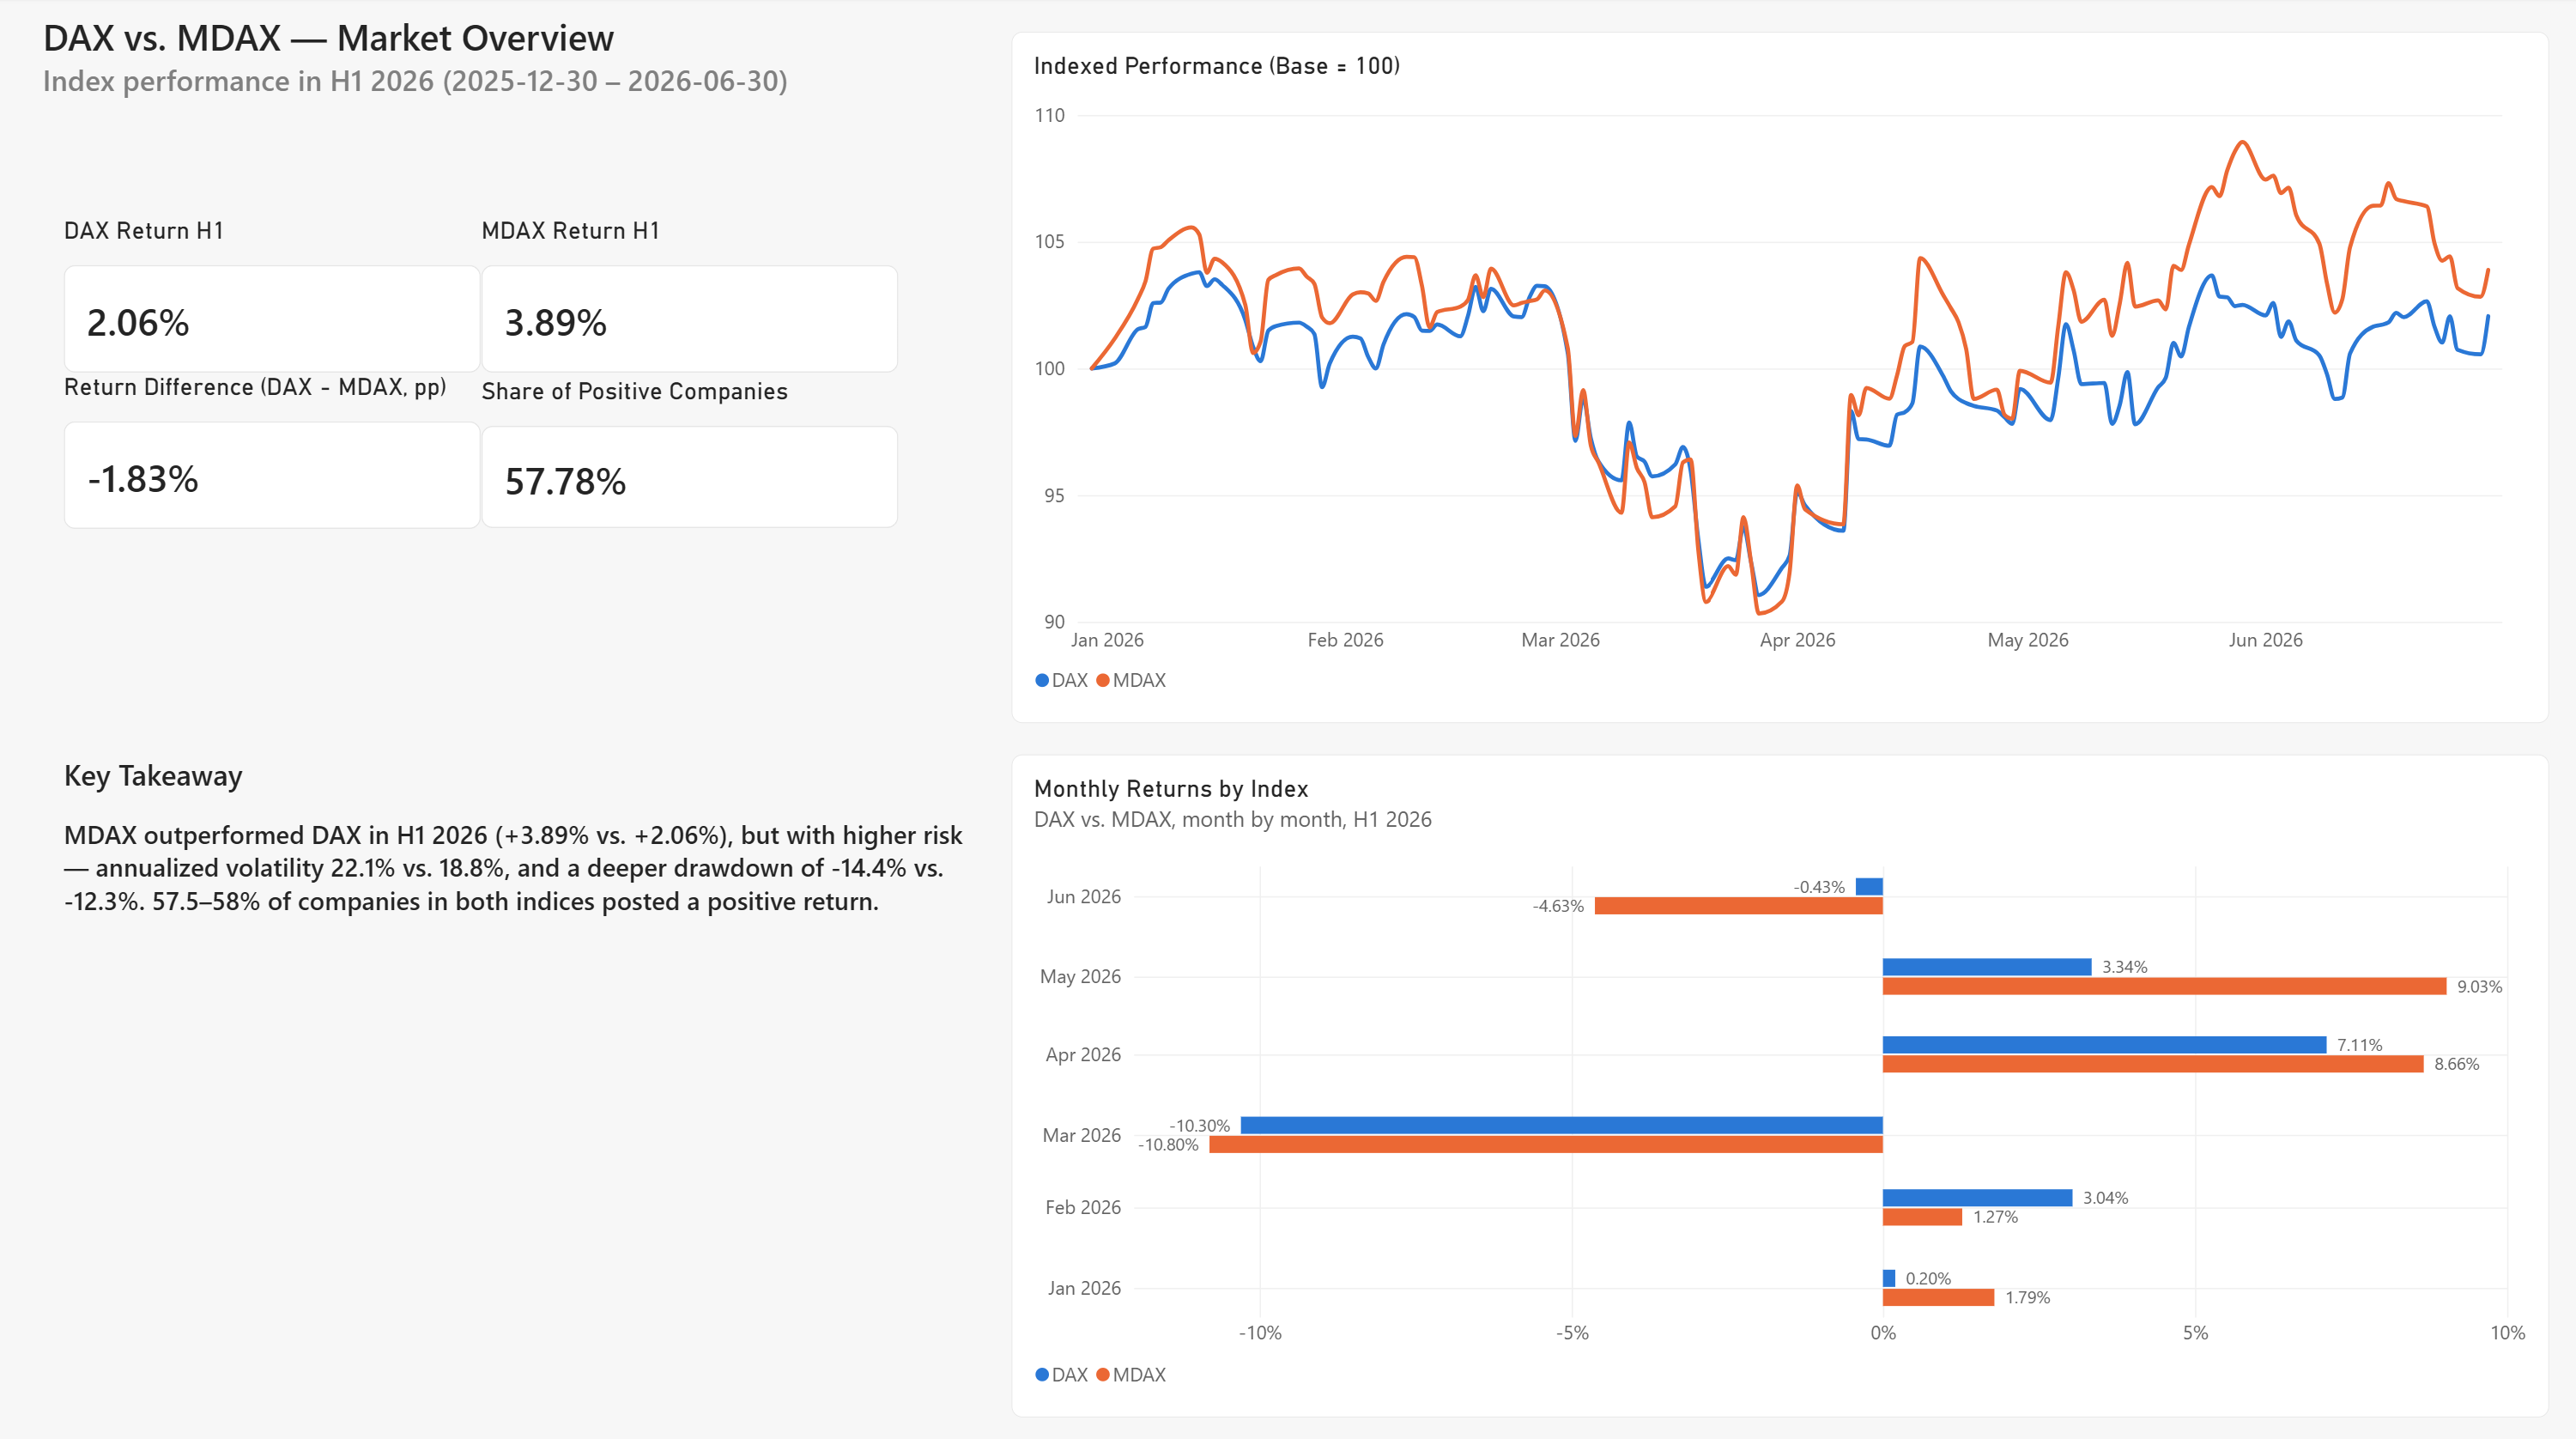

This screenshot's page, from the dashboard's own definition file:
{"tool":"powerbi","page":{"name":"Market Overview","canvas":[1920,1080],"ordinal":0},"visuals":[{"type":"textbox","box":[10,0,280,280],"z":0},{"type":"textbox","box":[32.4,12.3,602.6,97.6],"z":1000},{"type":"cardVisual","title":"DAX Return H1","fields":{"Data":["_Mesures.DAX Rendite H1"]},"box":[48,157.4,264.6,111.7],"z":2000},{"type":"cardVisual","title":"MDAX Return H1","fields":{"Data":["_Mesures.MDAX Rendite H1"]},"box":[312.6,157.4,264.6,111.7],"z":3000},{"type":"cardVisual","title":"Return Difference","fields":{"Data":["_Mesures.Renditedifferenz"]},"box":[48,280.2,264.6,112.8],"z":4000},{"type":"cardVisual","title":"Share of Positive Companies","fields":{"Data":["_Mesures.Anteil positive Unternehmen"]},"box":[312.6,280.2,264.6,112.8],"z":5000},{"type":"lineChart","title":"Indexed Performance (Base = 100)","fields":{"Category":["Fact_DailyMarketData.date"],"Series":["Fact_DailyMarketData.index_group"],"Y":["Sum(Fact_DailyMarketData.normalized)"]},"box":[752,27,1143.7,513.6],"z":6000},{"type":"hundredPercentStackedBarChart","title":"Monthly Returns by Index","fields":{"Category":["Fact_MonthlySummary.month"],"Series":["Fact_MonthlySummary.index_group"],"Y":["Sum(Fact_MonthlySummary.monthly_return)"]},"box":[752,563.3,1143.7,492.4],"z":7000},{"type":"textbox","box":[48,563.8,674,185.9],"z":8000}]}

Visuals, with their boxes in screenshot pixels (x1, y1, x2, y2), scaled from the page's 1920x1080 canvas onto the 2576x1439 screenshot:
textbox: pyautogui.locateOnScreen(14, 0, 389, 373)
textbox: pyautogui.locateOnScreen(44, 16, 852, 147)
"DAX Return H1" cardVisual: pyautogui.locateOnScreen(64, 209, 420, 359)
"MDAX Return H1" cardVisual: pyautogui.locateOnScreen(420, 209, 774, 359)
"Return Difference" cardVisual: pyautogui.locateOnScreen(64, 373, 420, 524)
"Share of Positive Companies" cardVisual: pyautogui.locateOnScreen(420, 373, 774, 524)
"Indexed Performance (Base = 100)" lineChart: pyautogui.locateOnScreen(1009, 36, 2543, 720)
"Monthly Returns by Index" hundredPercentStackedBarChart: pyautogui.locateOnScreen(1009, 750, 2543, 1406)
textbox: pyautogui.locateOnScreen(64, 751, 969, 999)
